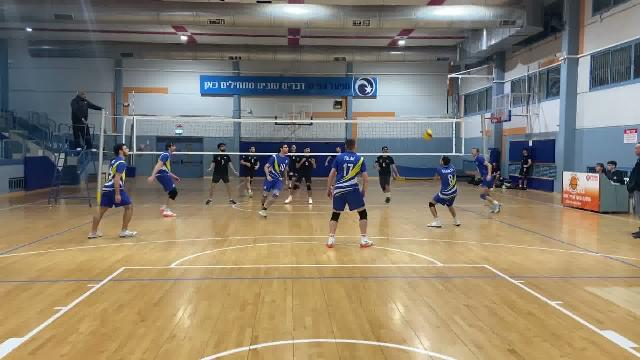ball: (421, 129, 433, 145)
